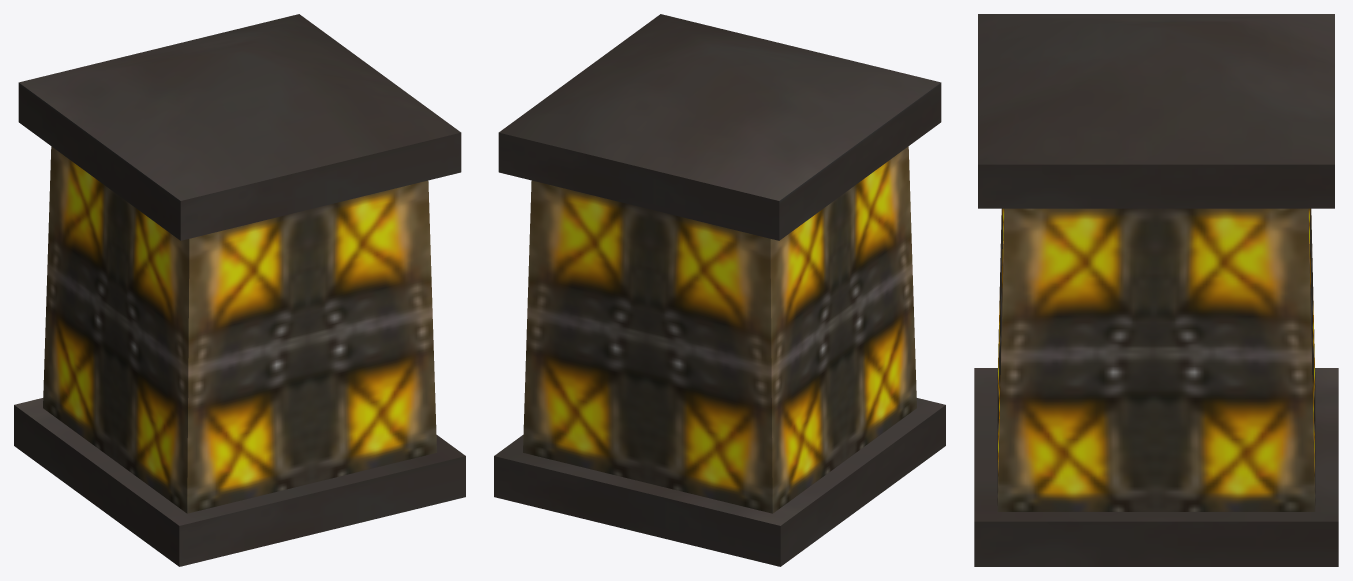
The model's file is Lantern.fbx.
The picture shows the model from 3 angles, left to right: view 1: azimuth 30°, elevation 25°; view 2: azimuth 150°, elevation 25°; view 3: azimuth 270°, elevation 25°; orthographic projection. The views are drawn at different scales.
Visible parts, largest first — view 1: Lantern; view 2: Lantern; view 3: Lantern.
Part boxes in pixels (bbox=[...]): Lantern: bbox=[14, 14, 465, 566]; Lantern: bbox=[494, 14, 945, 566]; Lantern: bbox=[974, 14, 1338, 566].
Size of the model in its own units: 2.07 by 2.9 by 2.07.
